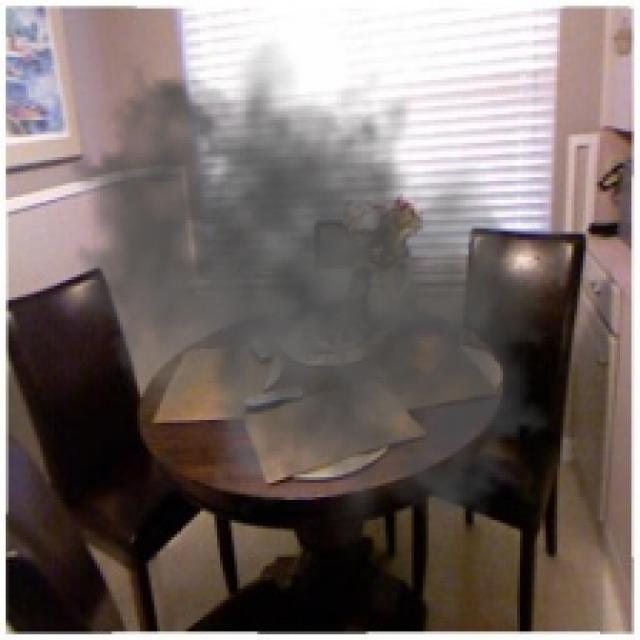smoke: (34, 37, 586, 554)
